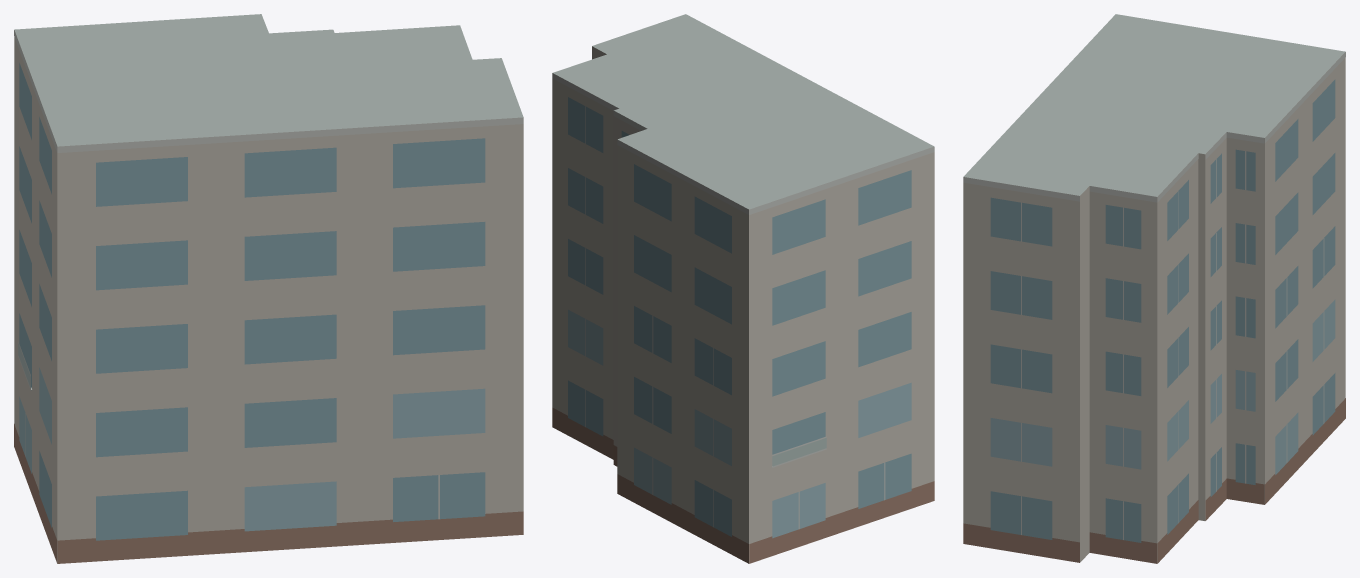
The model's file is survey-upis-32636494.glb.
3 renders of one model, left to right at view 1: azimuth 30°, elevation 25°; view 2: azimuth 150°, elevation 25°; view 3: azimuth 270°, elevation 25°, orthographic. The views are drawn at different scales.
Parts seen in each view (by area): view 1: survey-upis-32636494.tmp; view 2: survey-upis-32636494.tmp; view 3: survey-upis-32636494.tmp.
Part boxes in pixels (x1=…): survey-upis-32636494.tmp: x1=14, y1=14, x2=523, y2=563; survey-upis-32636494.tmp: x1=552, y1=14, x2=934, y2=563; survey-upis-32636494.tmp: x1=963, y1=14, x2=1345, y2=563.
Size of the model in its own units: 16.69 by 15.6 by 14.74.
